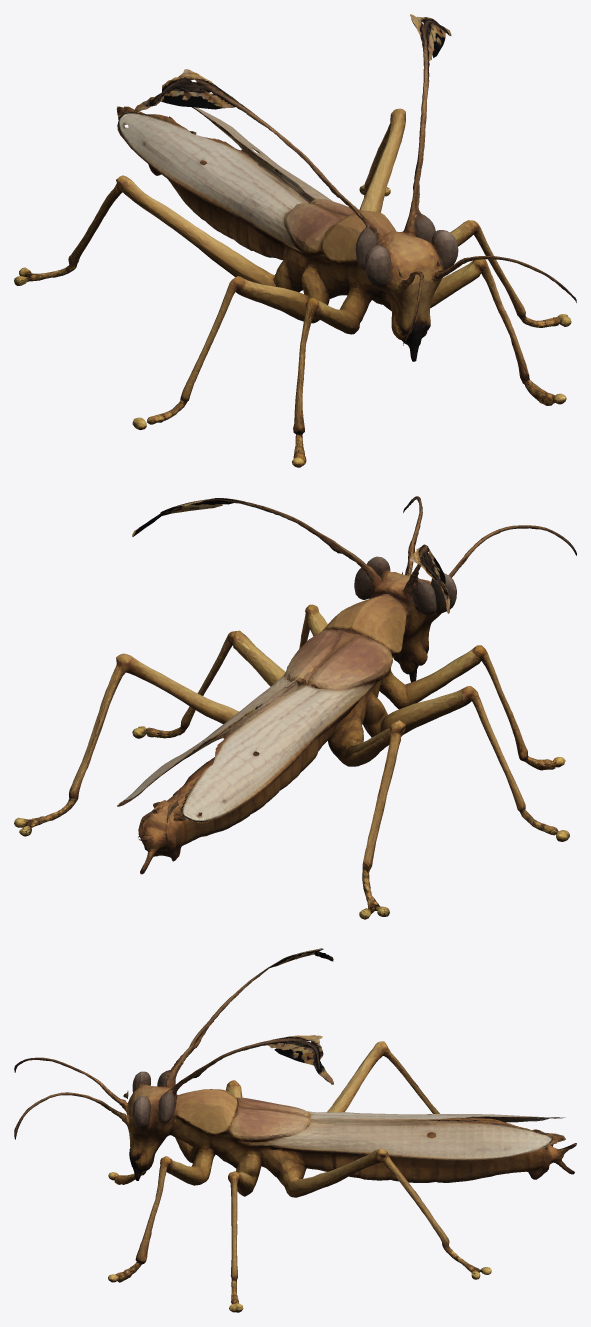
3 views of the same model, one above another, from view 1: azimuth 30°, elevation 25°; view 2: azimuth 150°, elevation 25°; view 3: azimuth 270°, elevation 25° (orthographic). The views are drawn at different scales.
Parts seen in each view (by area): view 1: world; view 2: world; view 3: world.
Boxes of the visible parts, x1,y1,x2,y2 form: world: (14,14,576,467); world: (14,496,576,919); world: (14,948,576,1312).
Size of the model in its own units: 0.7142 by 0.4715 by 1.
1 material, 1 textured.
